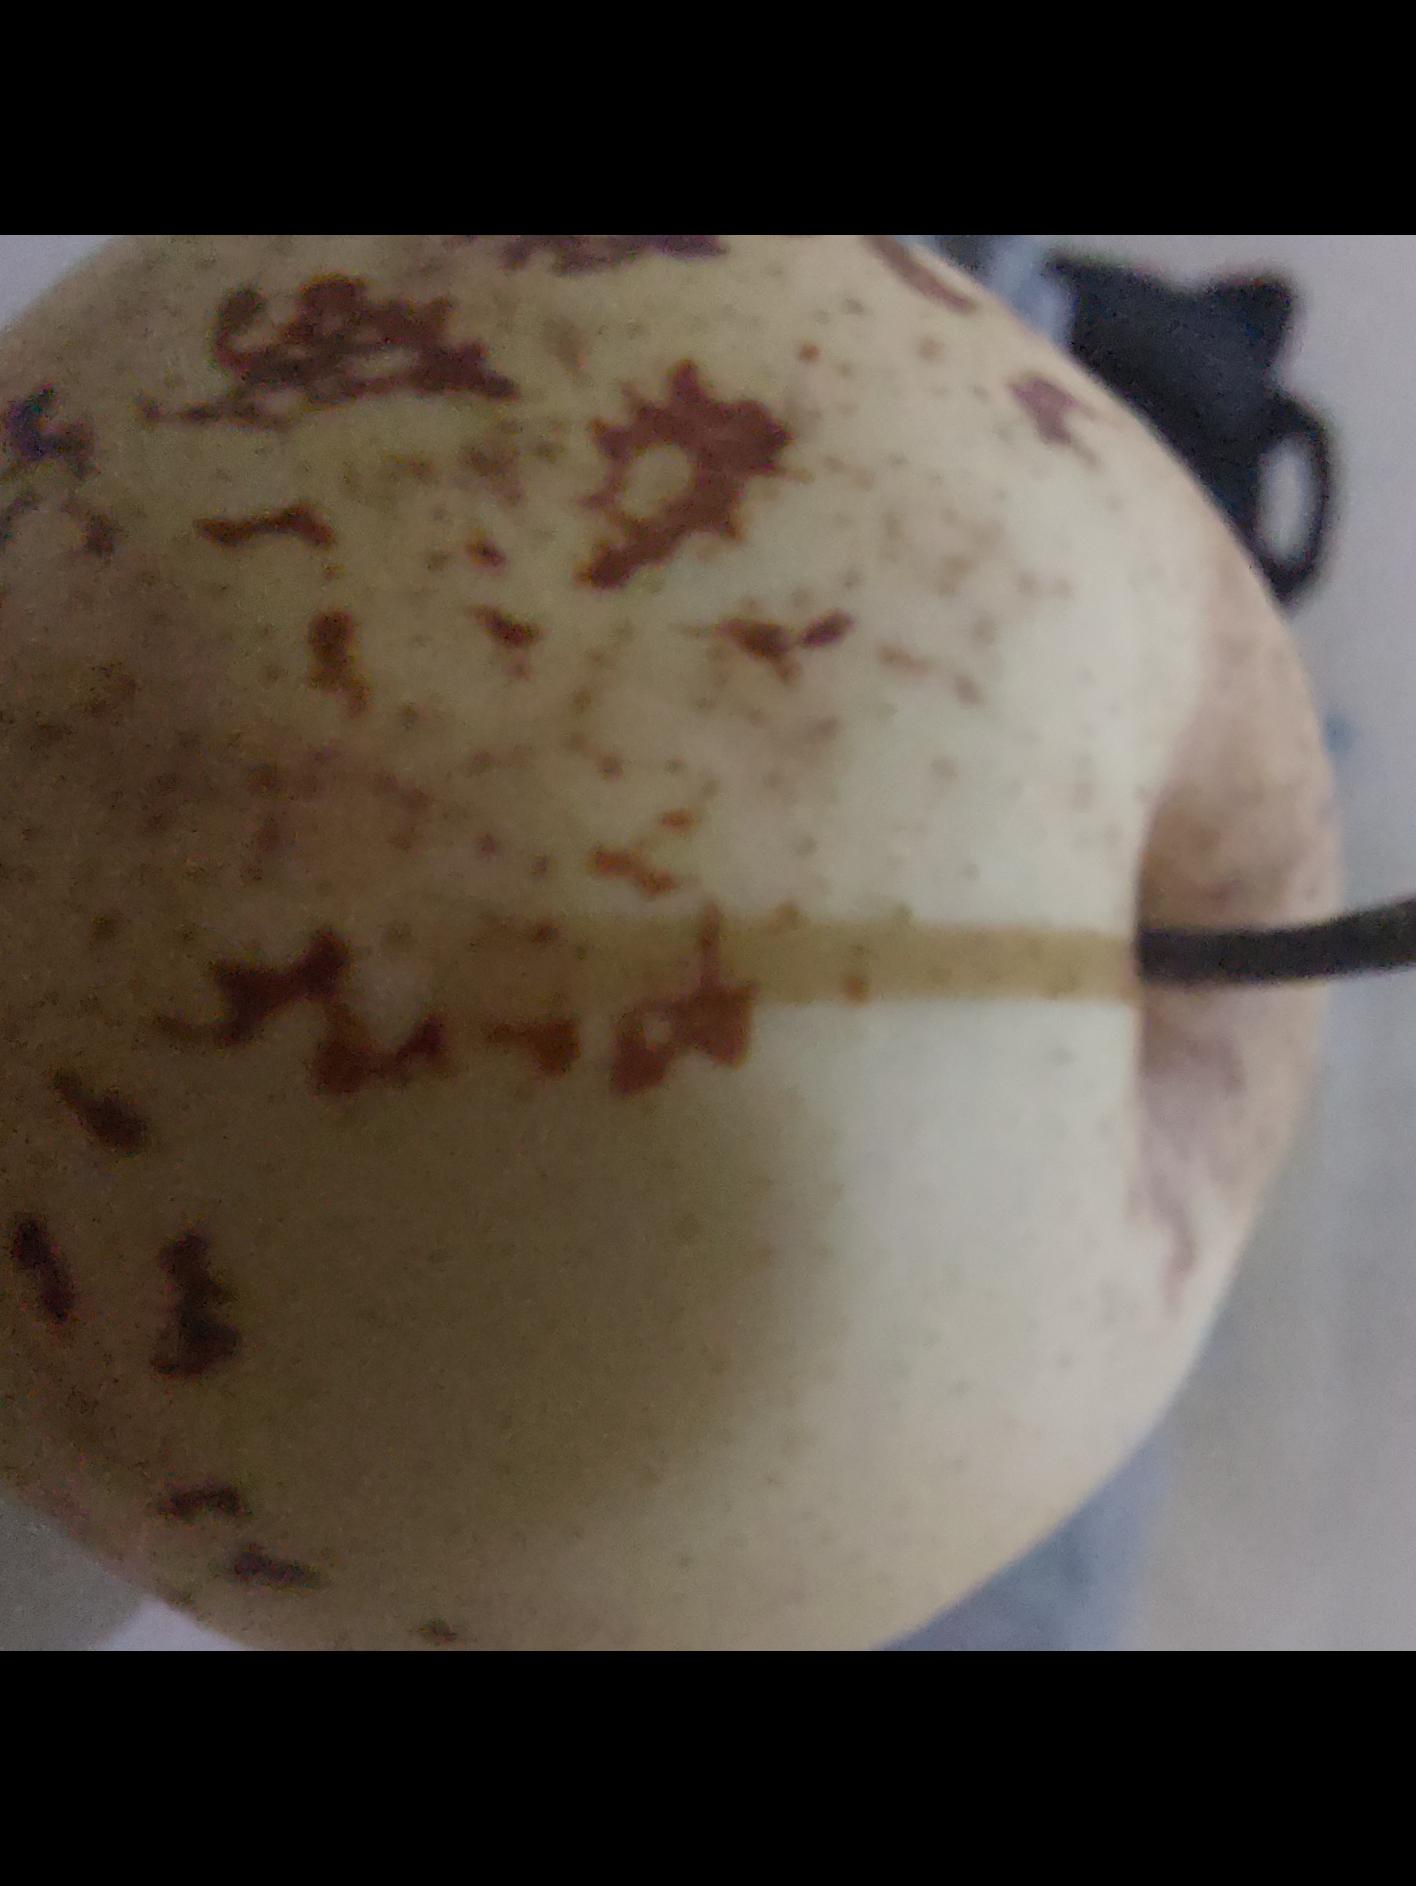Bad Pear: (0, 235, 1370, 1651)
